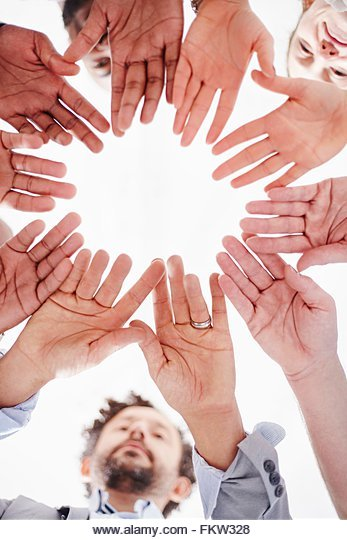non-diseased: (8, 15, 341, 391)
